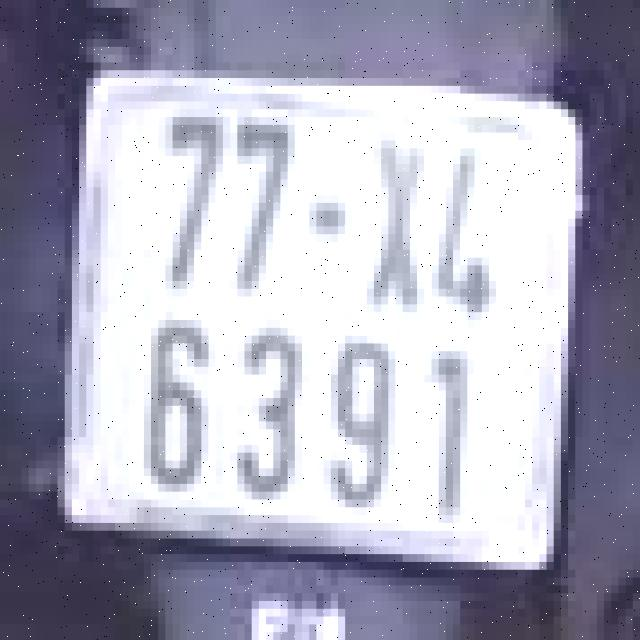1: (421, 336, 485, 523)
3: (233, 320, 306, 507)
4: (432, 129, 496, 339)
6: (122, 312, 209, 500)
7: (151, 105, 230, 308), (233, 102, 306, 304)
9: (334, 320, 406, 515)
X: (359, 121, 432, 324)
